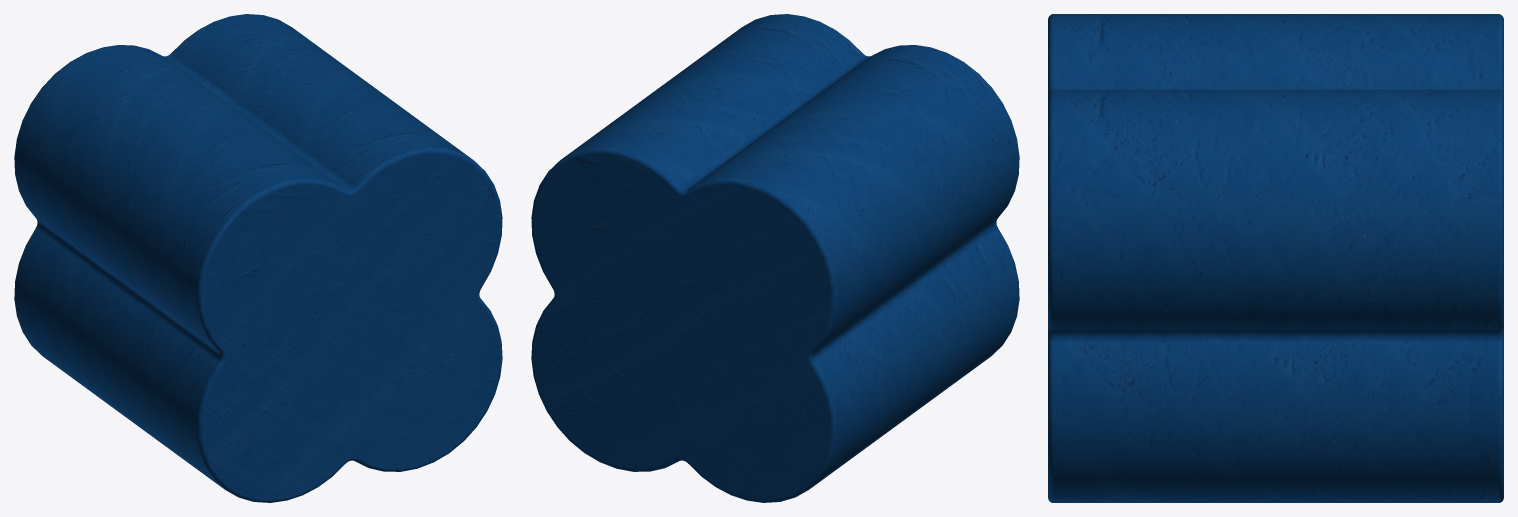
Rendered from cross.glb.
3 views of the same model, side by side, from view 1: azimuth 30°, elevation 25°; view 2: azimuth 150°, elevation 25°; view 3: azimuth 270°, elevation 25° (orthographic). The views are drawn at different scales.
Parts seen in each view (by area): view 1: cross_2; view 2: cross_2; view 3: cross_2.
Boxes of the visible parts, x1=… form: cross_2: x1=14, y1=14, x2=502, y2=502; cross_2: x1=531, y1=14, x2=1019, y2=502; cross_2: x1=1048, y1=14, x2=1503, y2=502.
Bounding box in the file's own units: 0.0378 × 0.0378 × 0.04.
1 material, 1 textured.
